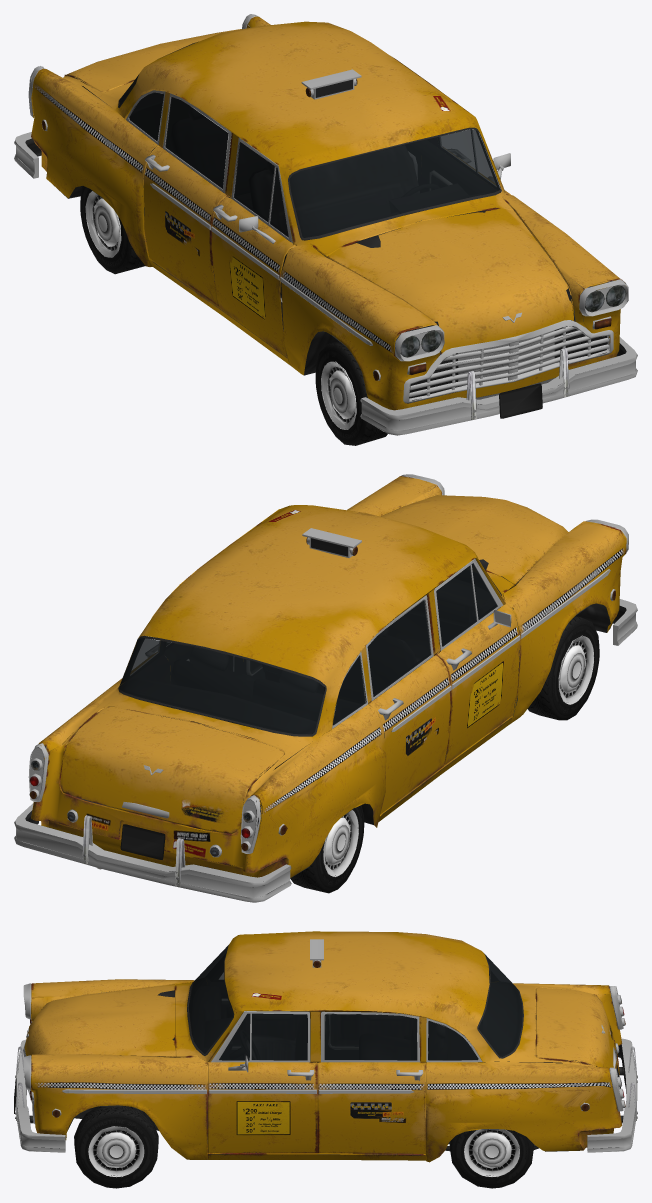
File: taxi.glb
3 renders of one model, top to bottom at view 1: azimuth 30°, elevation 25°; view 2: azimuth 150°, elevation 25°; view 3: azimuth 270°, elevation 25°, orthographic. The views are drawn at different scales.
Parts seen in each view (by area): view 1: taxi; view 2: taxi; view 3: taxi.
Boxes of the visible parts, x1=… form: taxi: x1=14, y1=14, x2=637, y2=445; taxi: x1=14, y1=474, x2=637, y2=902; taxi: x1=14, y1=931, x2=637, y2=1188.
Bounding box in the file's own units: 2.13 × 1.83 × 5.3.
6 materials, 6 textured.
